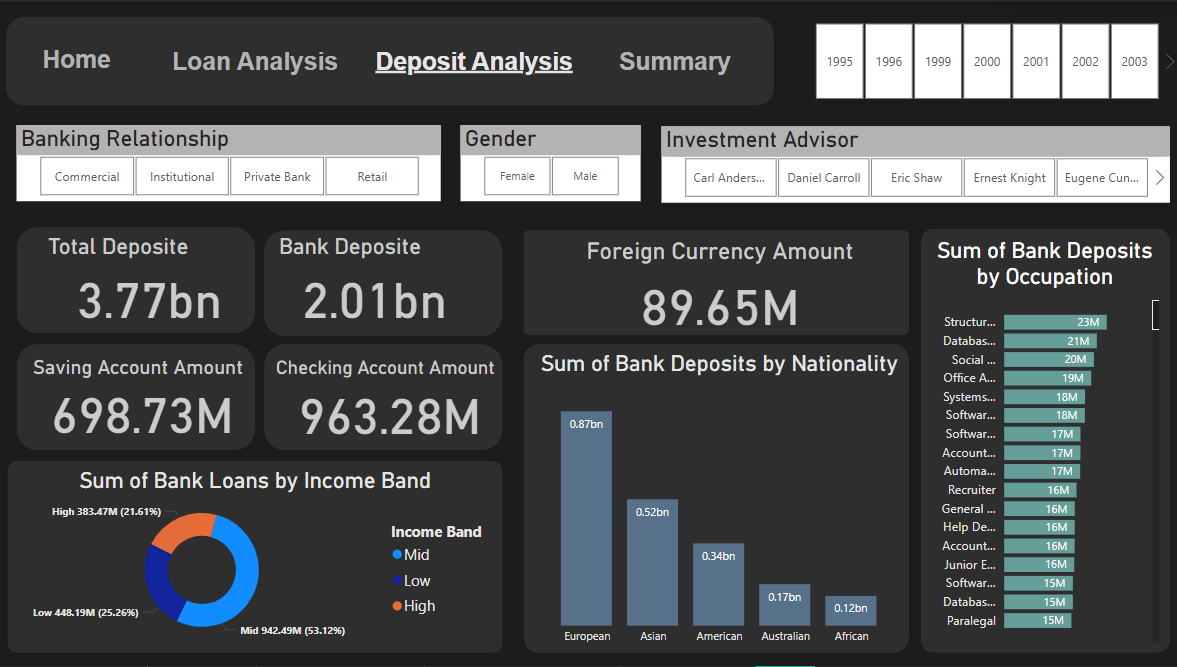

What the dashboard file says about the page in this screenshot:
{"tool":"powerbi","page":{"name":"Deposit Analysis","canvas":[1280,720],"ordinal":2},"visuals":[{"type":"shape","box":[998.7,245.6,270,460.3],"z":0},{"type":"shape","box":[567.7,247.2,418,113.9],"z":1000},{"type":"shape","box":[567.7,370.9,418,335.1],"z":2000},{"type":"shape","box":[8.1,497.7,536.8,208.2],"z":3000},{"type":"slicer","fields":{"Values":["Banking_Clients.year of joining"]},"box":[858.7,16.3,421.3,96],"z":4000},{"type":"slicer","title":"Investment Advisor","fields":{"Values":["Investment Advisor.Investment Advisor"]},"box":[717.3,135,551.4,83],"z":5000},{"type":"slicer","title":"Gender","fields":{"Values":["Banking_Clients.GenderId"]},"box":[499.3,133.4,195.2,83],"z":6000},{"type":"slicer","title":"Banking Relationship","fields":{"Values":["Banking_Clients.BRId"]},"box":[17.9,133.4,460.3,83],"z":7000},{"type":"shape","box":[6.5,16.3,832.8,96],"z":8000},{"type":"textbox","box":[17.9,42.3,130.1,42.3],"z":9000},{"type":"textbox","box":[165.9,43.9,221.2,45.5],"z":10000},{"type":"textbox","box":[388.7,43.9,250.5,40.7],"z":11000},{"type":"textbox","box":[639.2,43.9,185.4,45.5],"z":12000},{"type":"shape","box":[17.9,244,258.6,115.5],"z":13000},{"type":"shape","box":[286.3,247.2,258.6,115.5],"z":14000},{"type":"shape","box":[17.9,370.9,258.6,115.5],"z":15000},{"type":"shape","box":[286.3,370.9,258.6,115.5],"z":16000},{"type":"card","title":"Total Deposite","fields":{"Values":["Banking Relationship.Total Deposits"]},"box":[47.2,250.5,229.3,104.1],"z":17000},{"type":"card","title":"Saving Account Amount","fields":{"Values":["Sum(Banking_Clients.Saving Accounts)"]},"box":[30.9,383.9,245.6,89.5],"z":18000},{"type":"card","title":"Checking Account Amount ","fields":{"Values":["Sum(Banking_Clients.Checking Accounts)"]},"box":[294.4,383.9,255.4,92.7],"z":19000},{"type":"card","title":"Bank Deposite","fields":{"Values":["Sum(Banking_Clients.Bank Deposits)"]},"box":[297.7,250.5,216.3,104.1],"z":20000},{"type":"card","title":"Foreign Currency Amount","fields":{"Values":["Sum(Banking_Clients.Foreign Currency Account)"]},"box":[575.8,255.4,409.9,107.4],"z":21000},{"type":"donutChart","fields":{"Category":["Banking_Clients.Income Band"],"Y":["Sum(Banking_Clients.Bank Loans)"]},"box":[8.1,504.2,536.8,195.2],"z":22000},{"type":"clusteredColumnChart","fields":{"Category":["Banking_Clients.Nationality"],"Y":["Sum(Banking_Clients.Bank Deposits)"]},"box":[574.2,377.4,411.5,328.6],"z":23000},{"type":"clusteredBarChart","fields":{"Y":["Sum(Banking_Clients.Bank Deposits)"],"Category":["Banking_Clients.Occupation"]},"box":[1003.6,255.4,258.6,444],"z":24000},{"type":"actionButton","box":[175.7,43.9,196.8,40.7],"z":25000},{"type":"actionButton","box":[652.2,43.9,161,45.5],"z":26000},{"type":"actionButton","box":[27.7,39,110.6,45.5],"z":27000}]}

Visuals, with their boxes in screenshot pixels (x1, y1, x2, y2), scaled from the page's 1280x720 canvas onto the 1177x667 screenshot:
shape: (918, 228, 1167, 654)
shape: (522, 229, 906, 335)
shape: (522, 344, 906, 654)
shape: (7, 461, 501, 654)
slicer - Banking_Clients.year of joining: (790, 15, 1176, 104)
"Investment Advisor" slicer: (660, 125, 1167, 202)
"Gender" slicer: (459, 124, 639, 200)
"Banking Relationship" slicer: (16, 124, 440, 200)
shape: (6, 15, 772, 104)
textbox: (16, 39, 136, 78)
textbox: (153, 41, 356, 83)
textbox: (357, 41, 588, 78)
textbox: (588, 41, 758, 83)
shape: (16, 226, 254, 333)
shape: (263, 229, 501, 336)
shape: (16, 344, 254, 451)
shape: (263, 344, 501, 451)
"Total Deposite" card: (43, 232, 254, 328)
"Saving Account Amount" card: (28, 356, 254, 439)
"Checking Account Amount " card: (271, 356, 506, 442)
"Bank Deposite" card: (274, 232, 473, 328)
"Foreign Currency Amount" card: (529, 237, 906, 336)
donutChart - Banking_Clients.Income Band x Sum(Banking_Clients.Bank Loans): (7, 467, 501, 648)
clusteredColumnChart - Banking_Clients.Nationality x Sum(Banking_Clients.Bank Deposits): (528, 350, 906, 654)
clusteredBarChart - Sum(Banking_Clients.Bank Deposits) x Banking_Clients.Occupation: (923, 237, 1161, 648)
actionButton: (162, 41, 343, 78)
actionButton: (600, 41, 748, 83)
actionButton: (25, 36, 127, 78)
